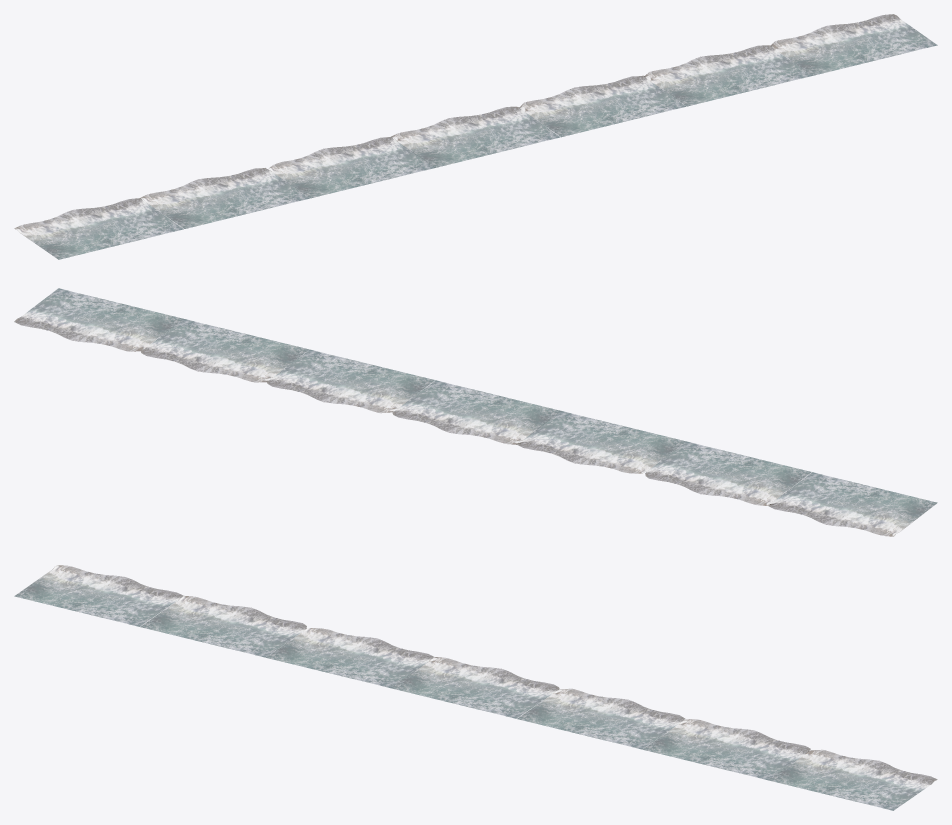
File: utigiwa.obj
The picture shows the model from 3 angles, top to bottom: view 1: azimuth 30°, elevation 25°; view 2: azimuth 150°, elevation 25°; view 3: azimuth 330°, elevation 25°; orthographic projection.
Size of the model in its own units: 147 by 0.2193 by 14.22.
1 material, 1 textured.
